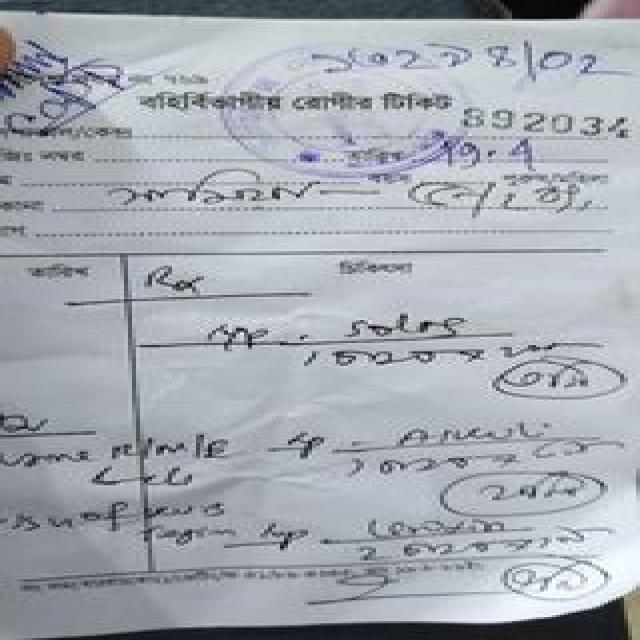Solas: (314, 306, 475, 344)
